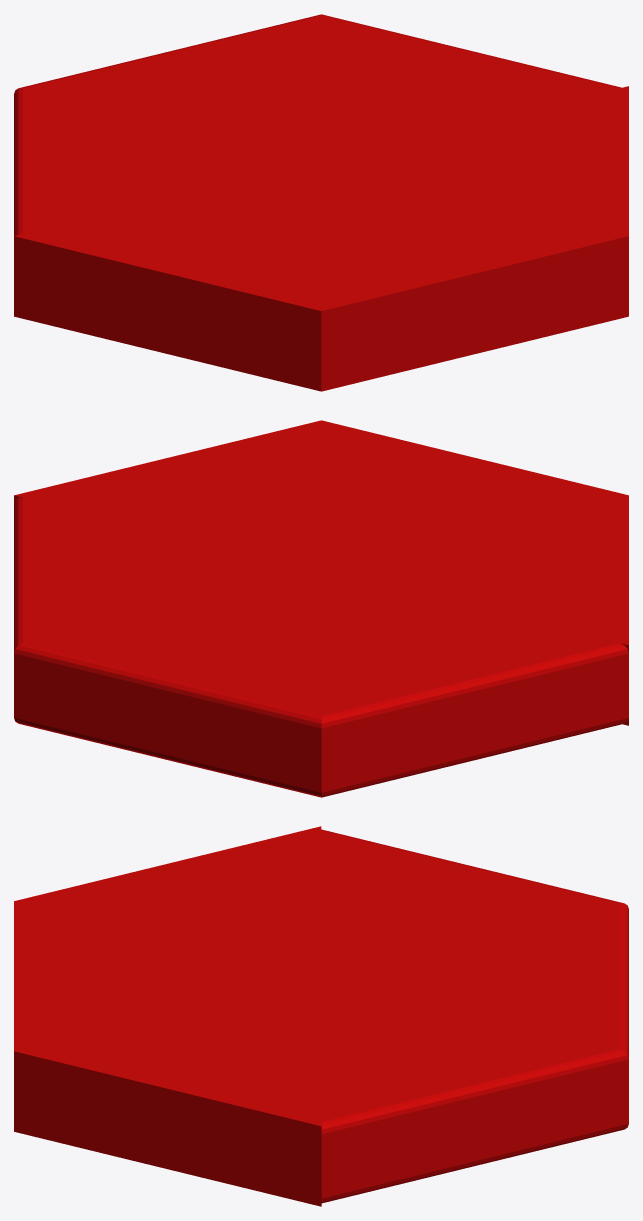
The model's file is pieceHR.glb.
3 renders of one model, top to bottom at view 1: azimuth 30°, elevation 25°; view 2: azimuth 150°, elevation 25°; view 3: azimuth 270°, elevation 25°, orthographic.
Visible parts, largest first — view 1: CubeHR-1, CubeHR-2-noimp; view 2: CubeHR-1, CubeHR-2-noimp; view 3: CubeHR-1, CubeHR-2-noimp.
Part boxes in pixels (left/top/right/bottom): CubeHR-1: left=14, top=14, right=628, bottom=383; CubeHR-2-noimp: left=14, top=86, right=628, bottom=391; CubeHR-1: left=14, top=424, right=628, bottom=797; CubeHR-2-noimp: left=14, top=420, right=628, bottom=725; CubeHR-1: left=14, top=829, right=628, bottom=1203; CubeHR-2-noimp: left=14, top=826, right=321, bottom=1206.
Size of what is drawn, in the model's own units: 2 by 0.25 by 1.73.
